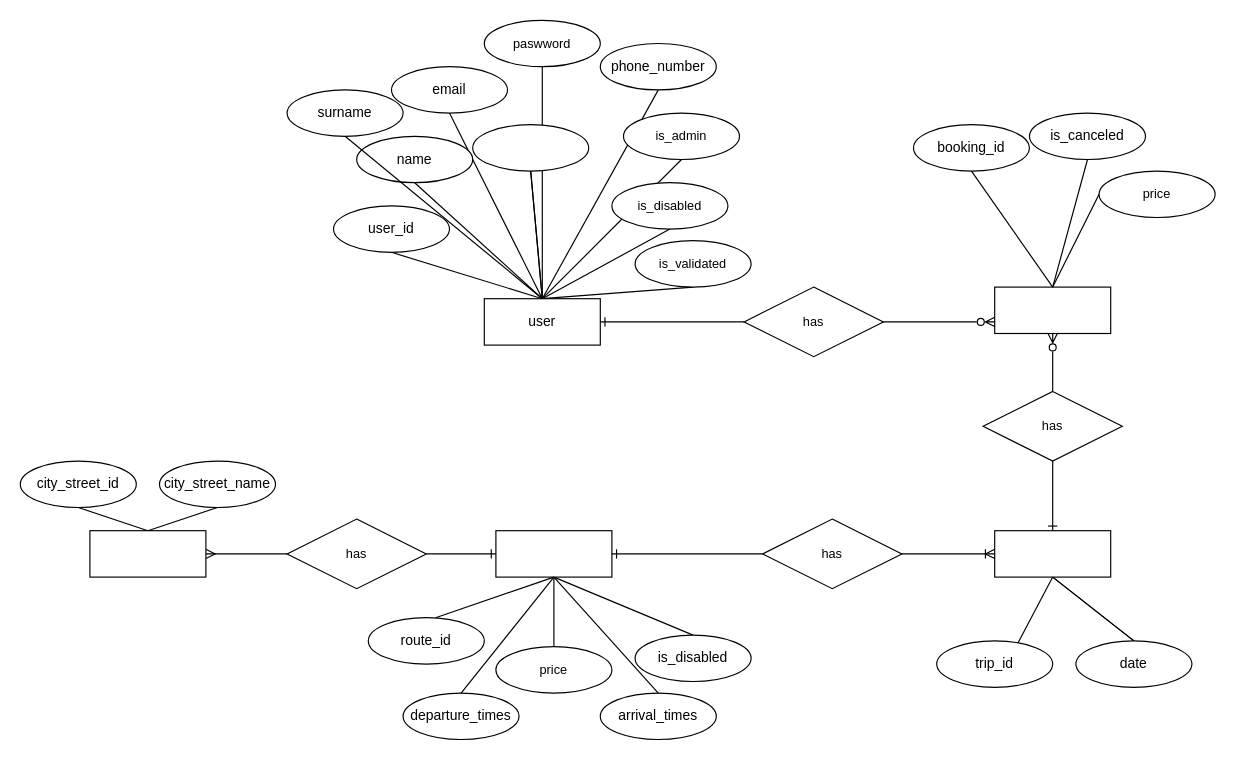
The diagram is 1235 pixels wide and 760 high, and some of its shapes have lost their labels. The shapes that lost their labels are listed below. From the top down, each one's centre as x and y in pixels, then its label:
the point at 530,147: avatar
the point at 1052,310: booking
the point at 147,553: city_street
the point at 553,553: Route
the point at 1052,553: trip
